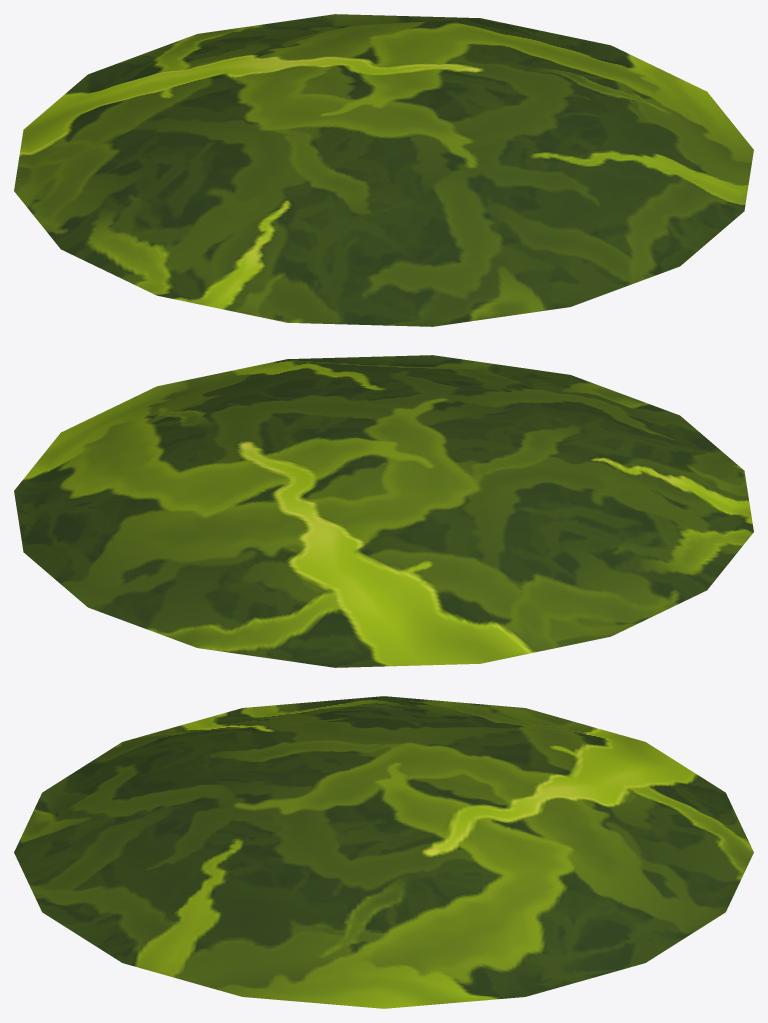
File: SM_PROP_barrel_filling_town_03.fbx
3 renders of one model, top to bottom at view 1: azimuth 30°, elevation 25°; view 2: azimuth 150°, elevation 25°; view 3: azimuth 270°, elevation 25°, orthographic.
Parts seen in each view (by area): view 1: SM_PROP_barrel_filling_town_03_LOD0; view 2: SM_PROP_barrel_filling_town_03_LOD0; view 3: SM_PROP_barrel_filling_town_03_LOD0.
Part boxes in pixels (x1,y1,x2,y2): SM_PROP_barrel_filling_town_03_LOD0: [14, 14, 753, 326]; SM_PROP_barrel_filling_town_03_LOD0: [14, 355, 753, 667]; SM_PROP_barrel_filling_town_03_LOD0: [14, 696, 753, 1008].
Size of what is drawn, in the model's own units: 70 by 7.16 by 70.
